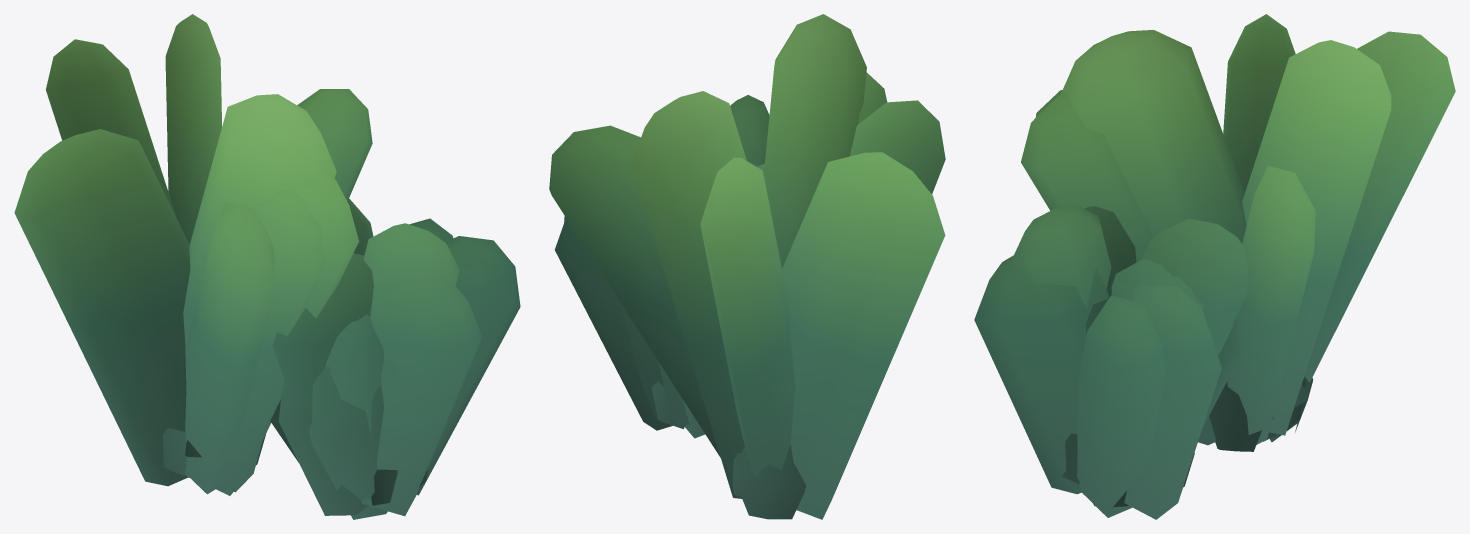
File: shrub_b.glb
The picture shows the model from 3 angles, left to right: view 1: azimuth 30°, elevation 25°; view 2: azimuth 150°, elevation 25°; view 3: azimuth 270°, elevation 25°; orthographic projection. The views are drawn at different scales.
Parts seen in each view (by area): view 1: shrub_b; view 2: shrub_b; view 3: shrub_b.
Boxes of the visible parts, x1=… form: shrub_b: x1=14, y1=14, x2=520, y2=519; shrub_b: x1=549, y1=14, x2=945, y2=519; shrub_b: x1=974, y1=14, x2=1455, y2=519.
Bounding box in the file's own units: 1.08 × 1.01 × 1.04.
1 material, 1 textured.
